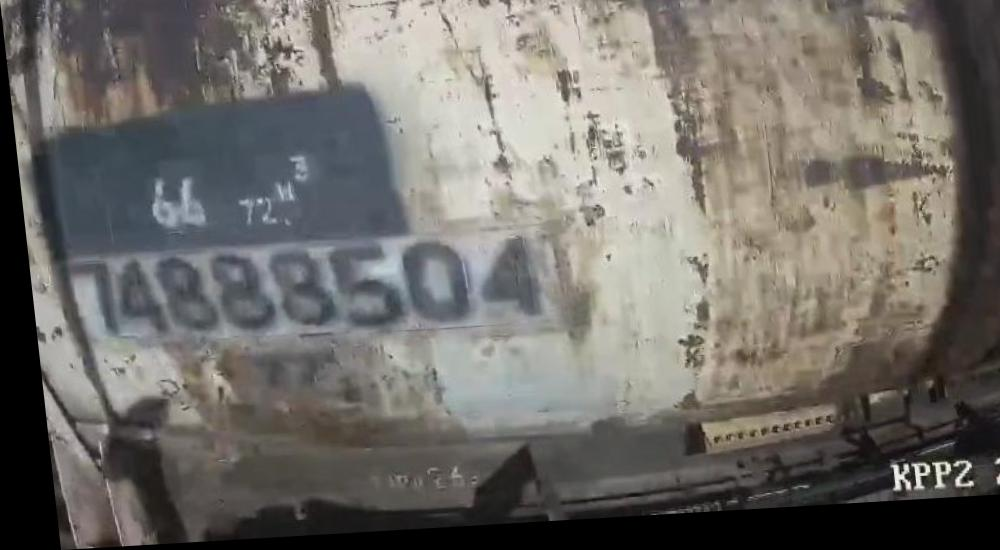Wagon-number: (64, 237, 544, 346)
